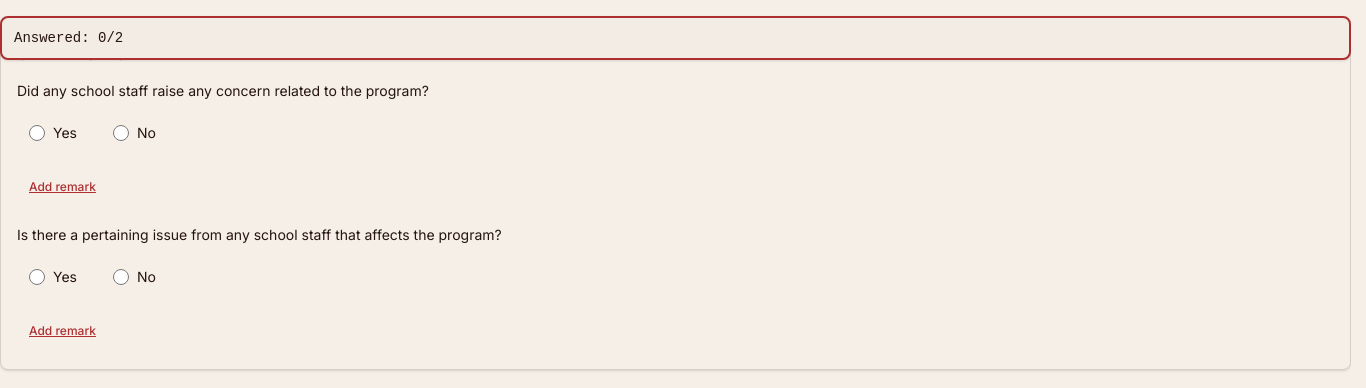
SchoolStaffInteractionForm › interactions › clicking Yes radio checks it and updates progress
Click the radio button with test id "school-staff-interaction-gc_staff_concern-yes" at (37, 133), box [29, 125, 45, 141]
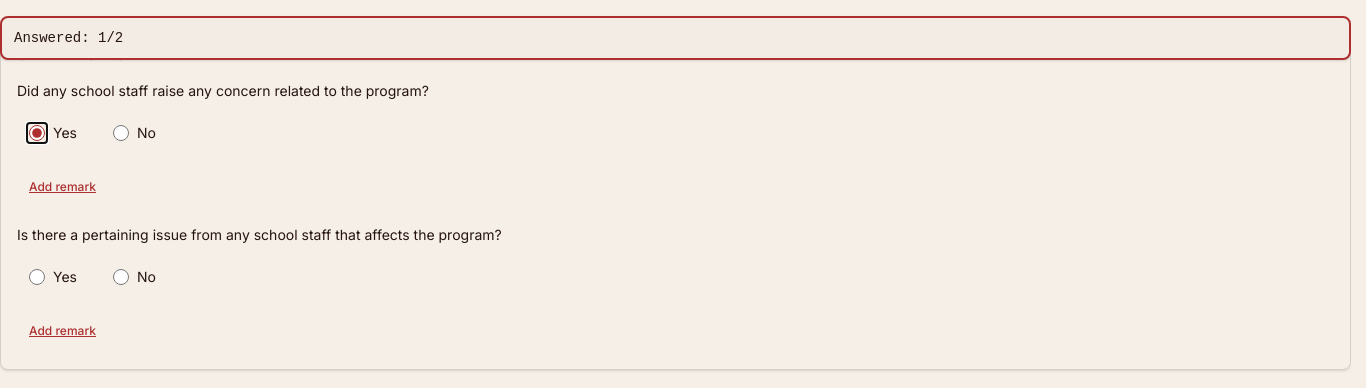
Check: the radio button with test id "school-staff-interaction-gc_staff_concern-no" is not checked, box [113, 125, 129, 141]
Check: the radio button with test id "school-staff-interaction-gc_staff_concern-yes" is checked, box [29, 125, 45, 141]
Check: the element with test id "school-staff-interaction-progress" reads "Answered: 1/2", box [0, 16, 1351, 60]
